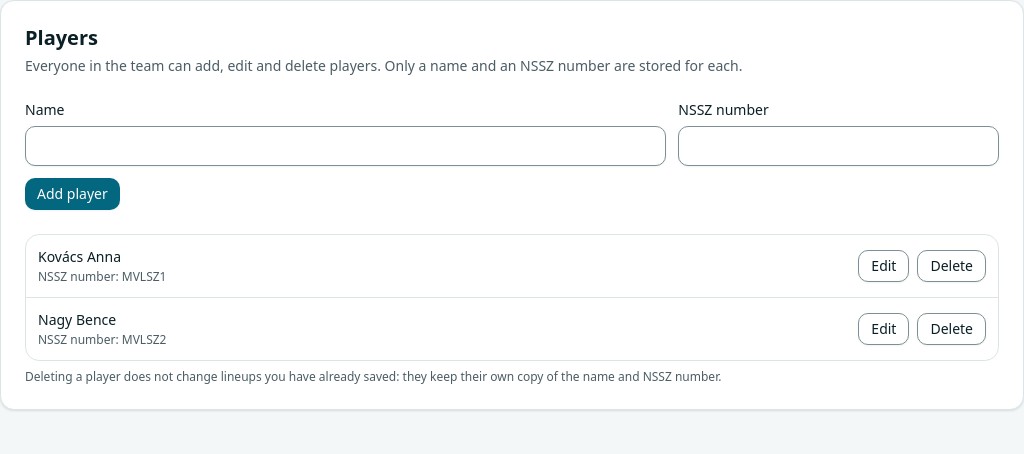
Test case: adding › checks the fields before sending anything
Check: the text "Kovács Anna" is shown, box [38,247,121,266]
Click the button "Add player" at (72, 194), box [25,178,120,210]
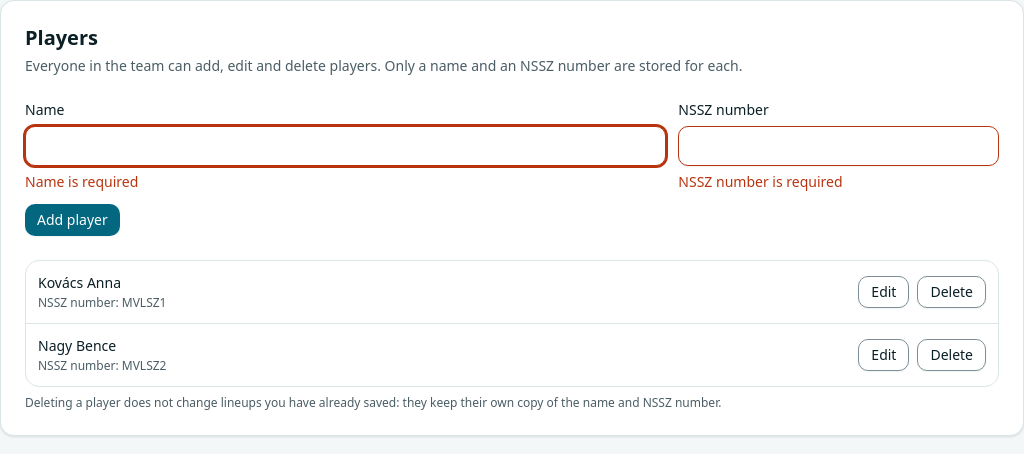
Check: the text "Name is required" is shown, box [25,172,138,191]
Check: the text "NSSZ number is required" is shown, box [678,172,842,191]
